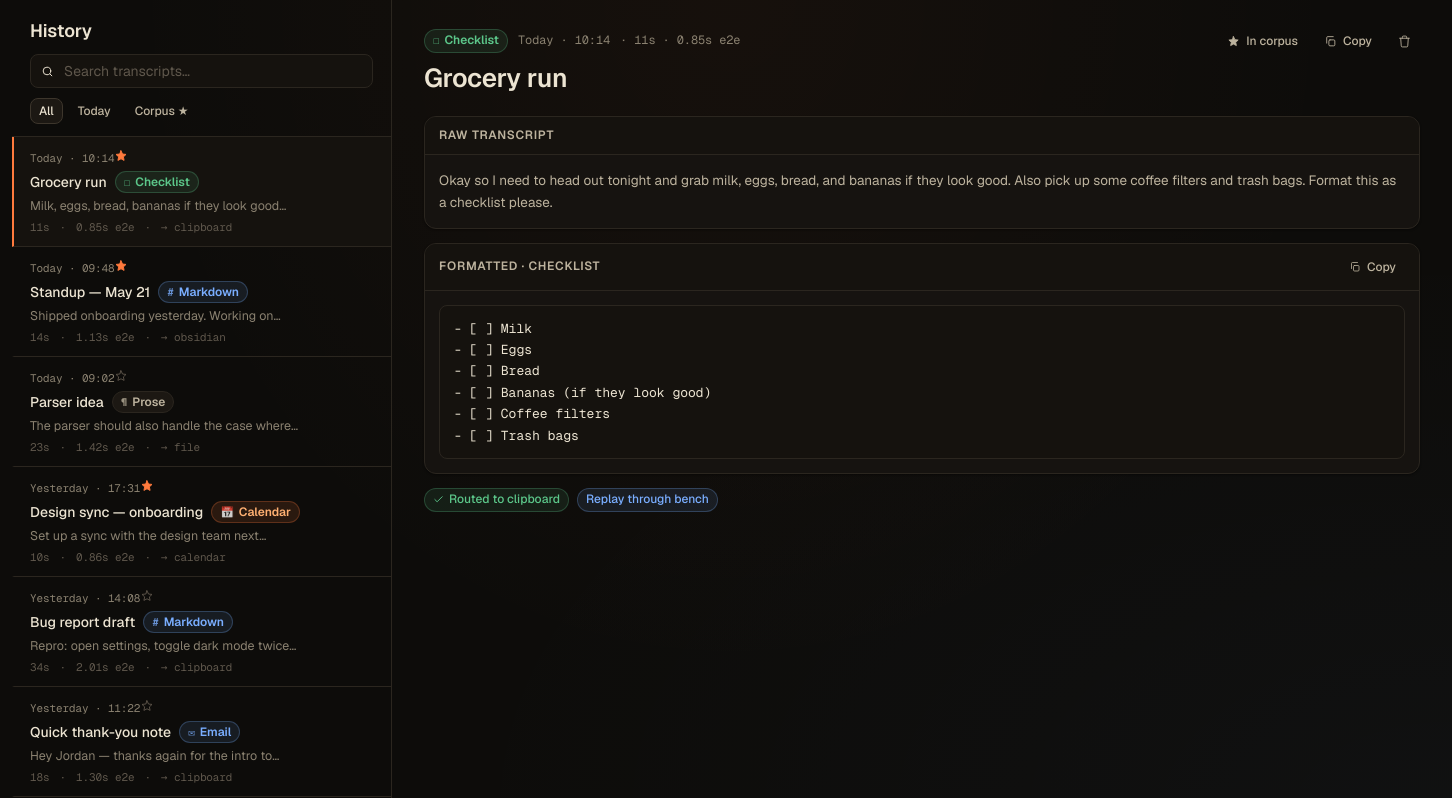
HistoryView — detail pane › updates the detail pane when a different row is selected
Click the text "Parser idea": click(67, 402) [30,393,104,411]
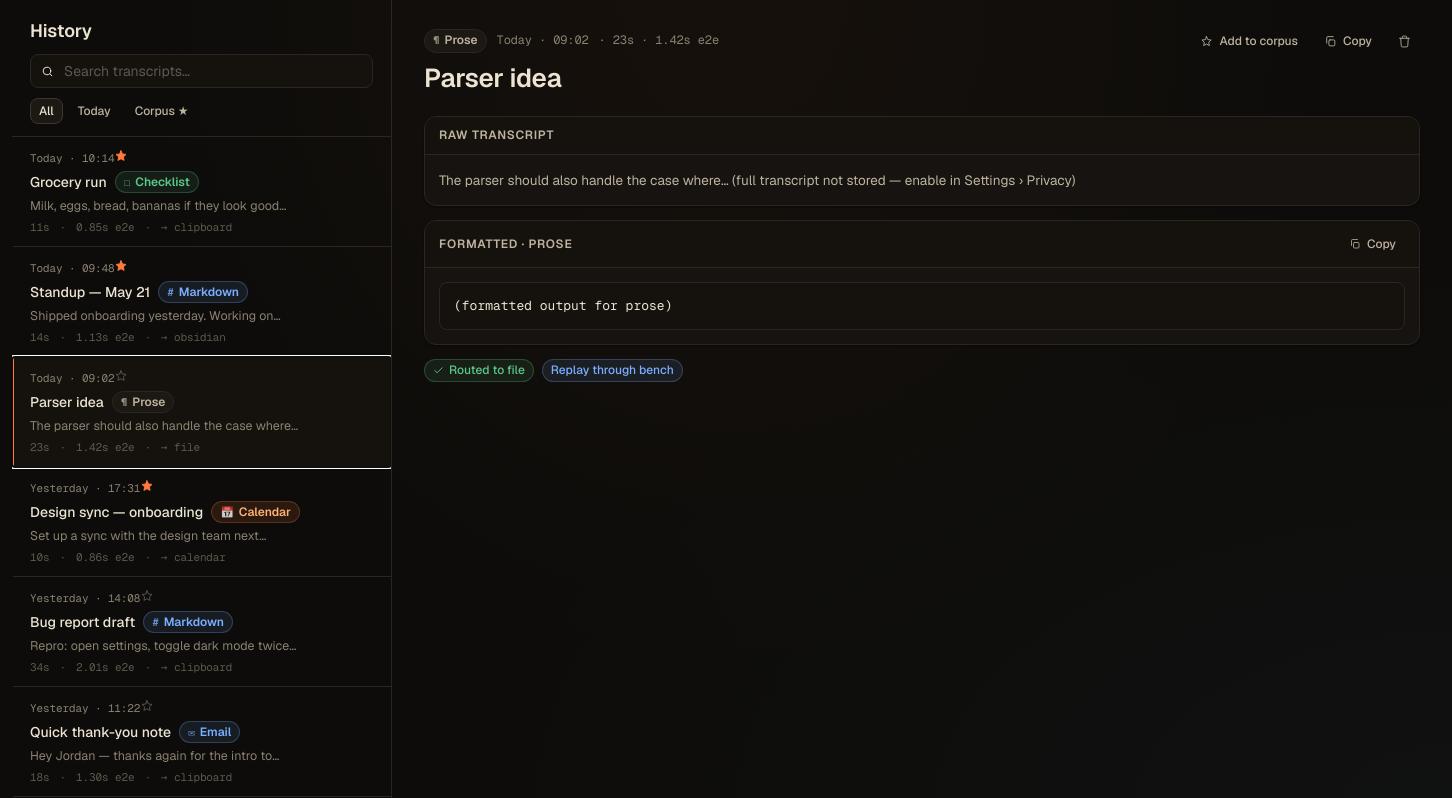
Check: the heading "Parser idea" is shown, box [424,61,562,95]
